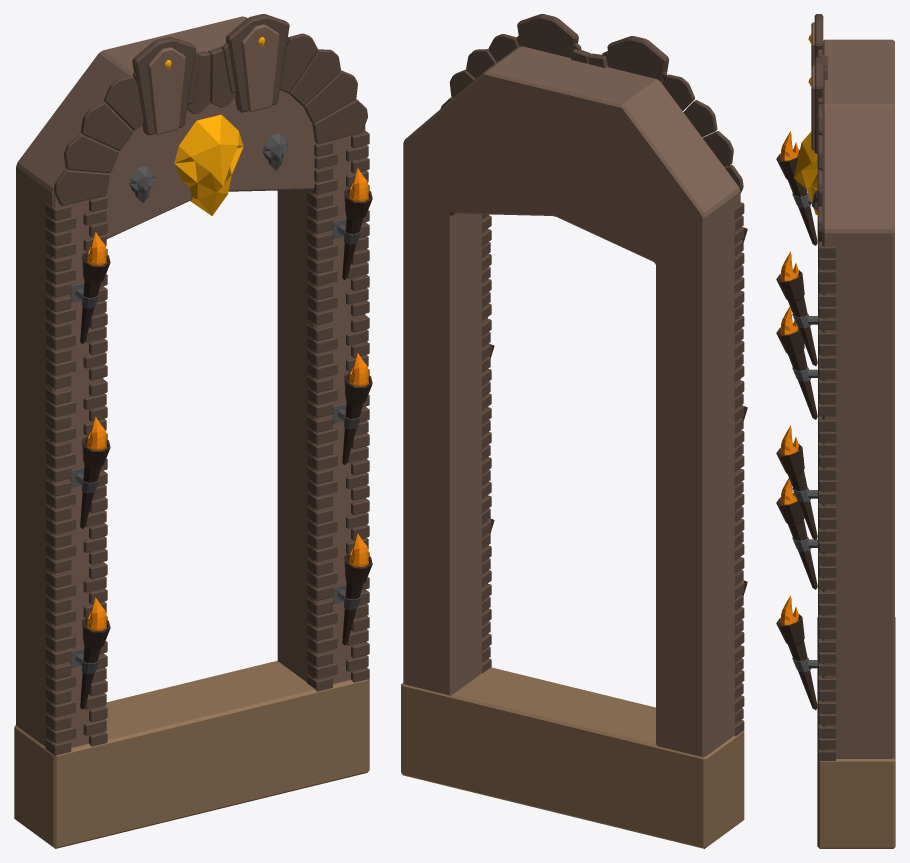
The model's file is wand3_fertig_normals_richtig.fbx.
3 views of the same model, side by side, from view 1: azimuth 30°, elevation 25°; view 2: azimuth 150°, elevation 25°; view 3: azimuth 270°, elevation 25° (orthographic). The views are drawn at different scales.
Parts seen in each view (by area): view 1: Wand, Block_wo_Wand_verschwindet; view 2: Wand, Block_wo_Wand_verschwindet; view 3: Wand, Block_wo_Wand_verschwindet.
Boxes of the visible parts, x1,y1,x2,y2 form: Wand: [16, 14, 372, 755]; Block_wo_Wand_verschwindet: [14, 660, 369, 848]; Wand: [403, 14, 747, 757]; Block_wo_Wand_verschwindet: [401, 667, 744, 848]; Wand: [776, 14, 894, 761]; Block_wo_Wand_verschwindet: [817, 617, 895, 848].
Size of the model in its own units: 141 by 333 by 48.98.
